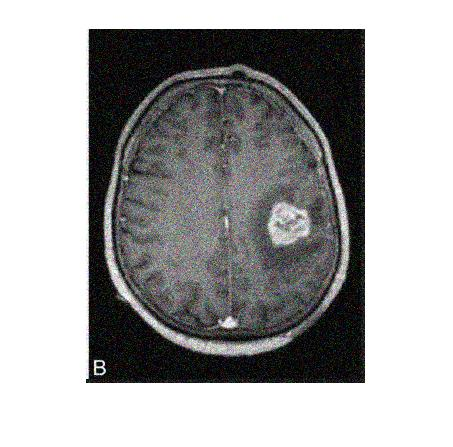Brain_Cancer: (266, 198, 311, 246)
